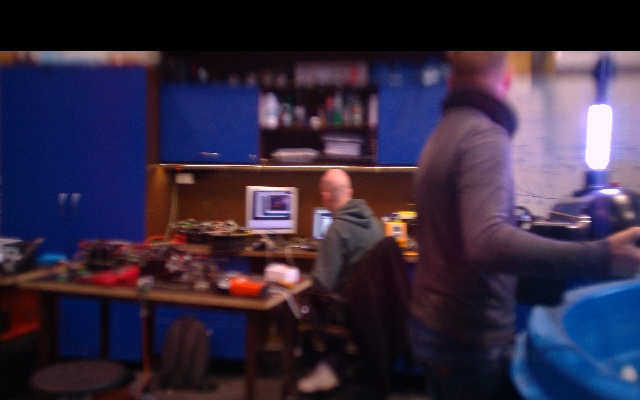white: (585, 103, 613, 170)
